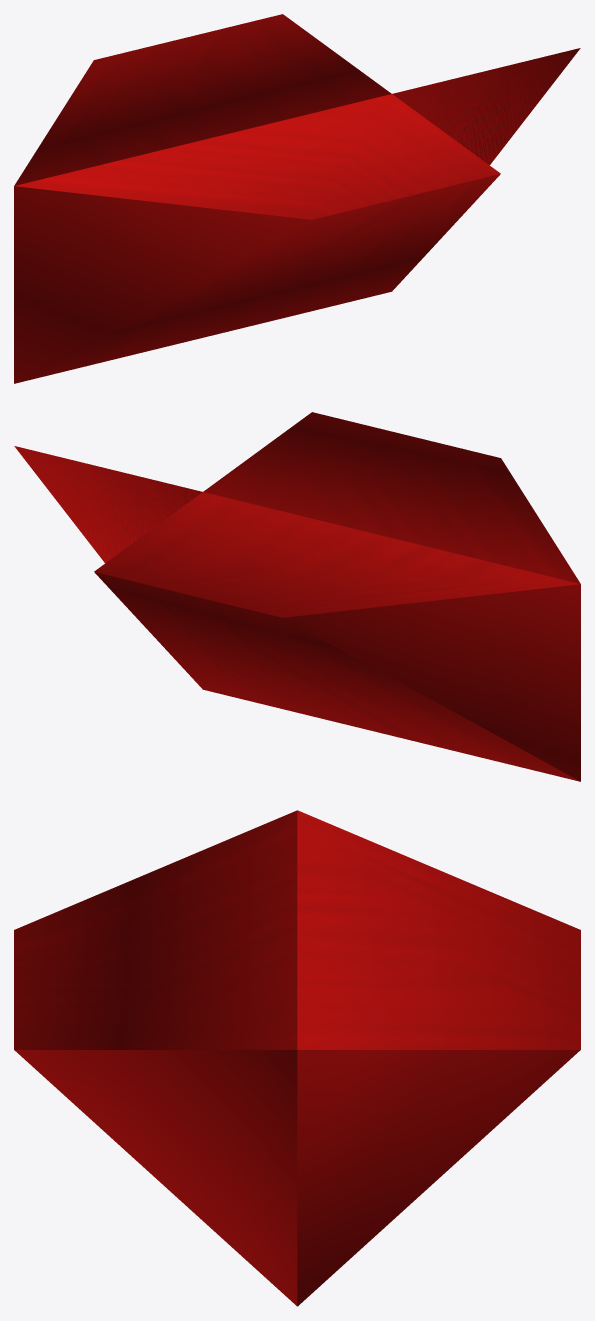
3 renders of one model, top to bottom at view 1: azimuth 30°, elevation 25°; view 2: azimuth 150°, elevation 25°; view 3: azimuth 270°, elevation 25°, orthographic. The views are drawn at different scales.
Size of the model in its own units: 0.72 by 0.24 by 0.48.
Materials: 1 (1 with a texture image).
